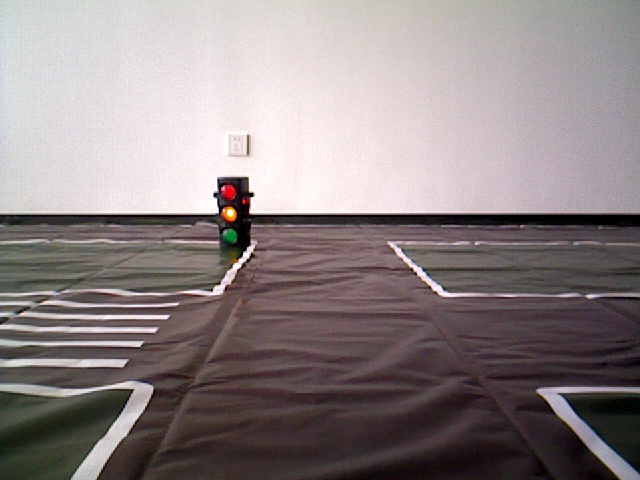yellow: (218, 175, 249, 251)
